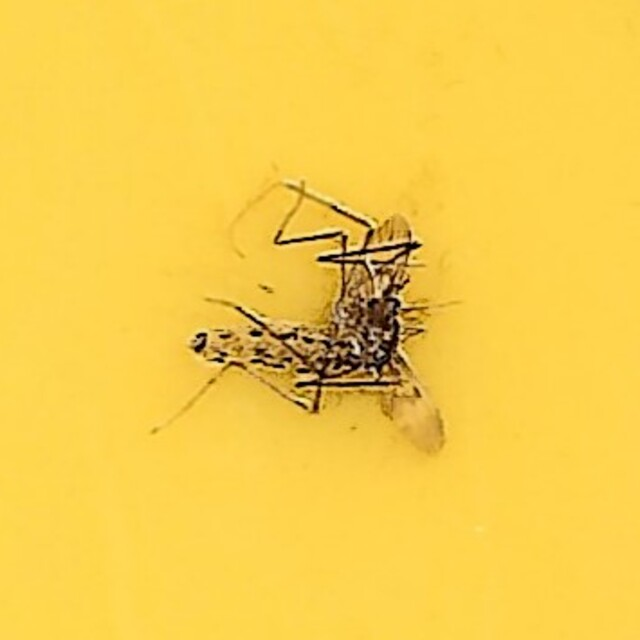Nematocera: (180, 174, 460, 466)
